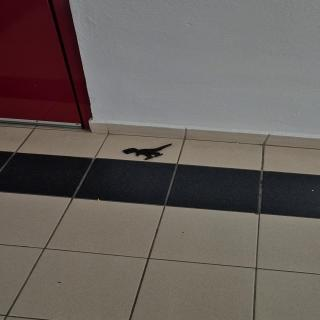dino: (122, 144, 172, 160)
